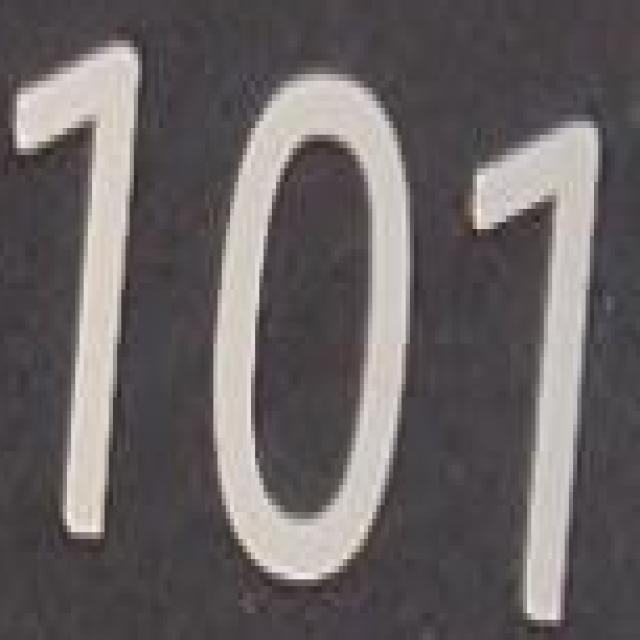character: (204, 59, 420, 607), (9, 27, 154, 567), (465, 106, 610, 633)
